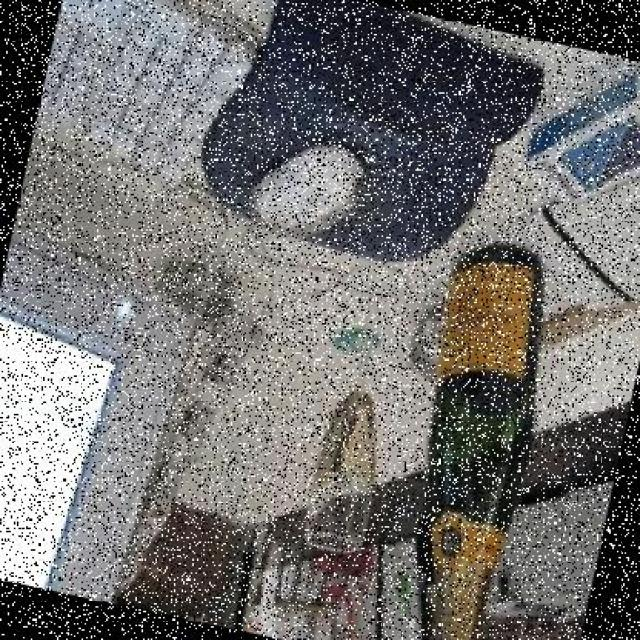mause: (193, 117, 379, 280)
